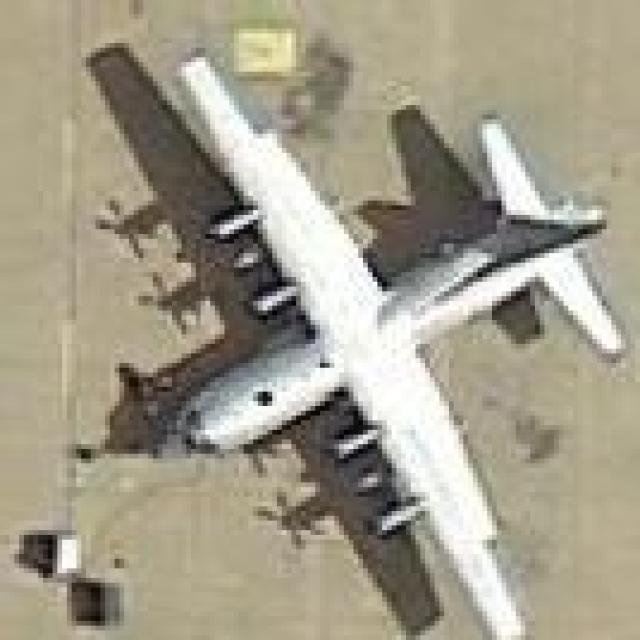C-130_TopDown: (75, 39, 634, 640)
